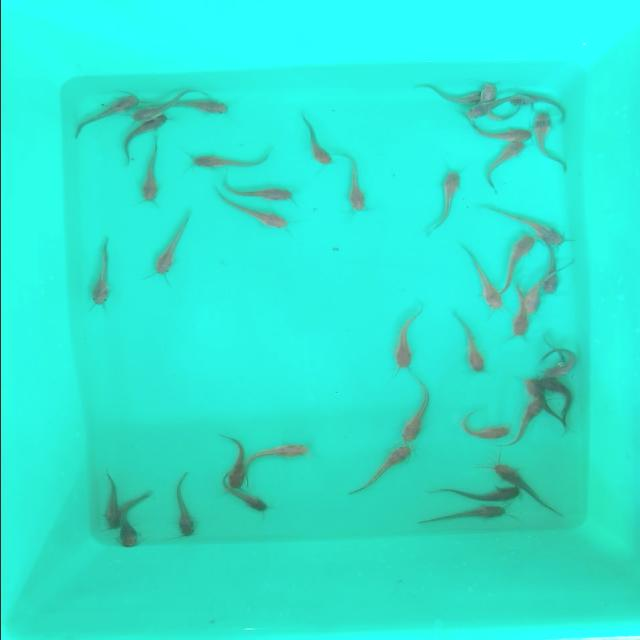lele: (486, 200, 569, 246), (352, 446, 414, 498), (461, 244, 505, 312), (448, 316, 492, 374), (429, 168, 467, 234), (412, 505, 512, 530), (396, 379, 432, 445), (117, 488, 151, 551), (131, 85, 185, 122), (170, 472, 200, 538), (78, 91, 138, 123), (394, 306, 422, 374), (427, 486, 522, 506), (296, 118, 334, 168), (188, 150, 274, 172), (490, 460, 552, 490), (244, 440, 308, 468), (152, 222, 185, 276), (229, 177, 292, 205), (482, 142, 523, 185), (215, 434, 247, 489), (534, 346, 586, 379), (453, 411, 508, 442), (138, 143, 166, 203), (410, 80, 480, 104), (225, 204, 288, 230), (119, 116, 167, 150), (532, 112, 562, 166), (340, 153, 366, 215), (90, 242, 114, 308), (502, 233, 536, 278), (219, 486, 273, 512), (509, 92, 566, 114), (179, 96, 231, 120), (512, 282, 530, 348), (464, 124, 530, 142), (516, 402, 542, 446), (538, 251, 564, 295), (100, 470, 119, 530), (522, 273, 544, 319), (545, 376, 571, 414), (520, 376, 546, 401), (481, 78, 503, 106), (460, 104, 492, 122)
